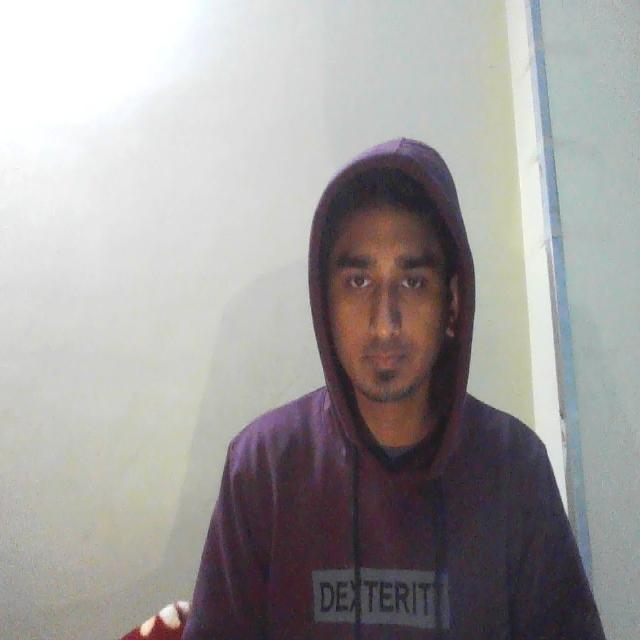real: (308, 131, 470, 436)
